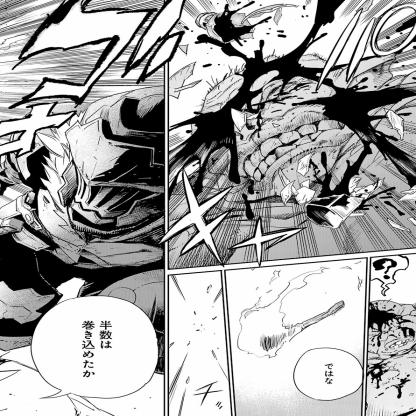sub: (79, 318, 97, 378), (97, 317, 116, 353), (319, 359, 337, 387)
